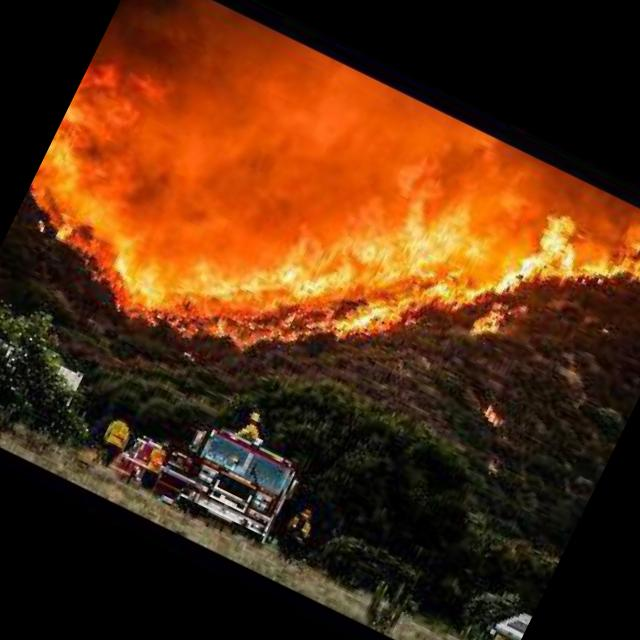fire: (94, 220, 354, 402), (256, 204, 477, 370), (33, 51, 157, 208), (386, 188, 538, 306), (504, 190, 614, 298), (470, 300, 510, 342), (480, 398, 504, 424)
